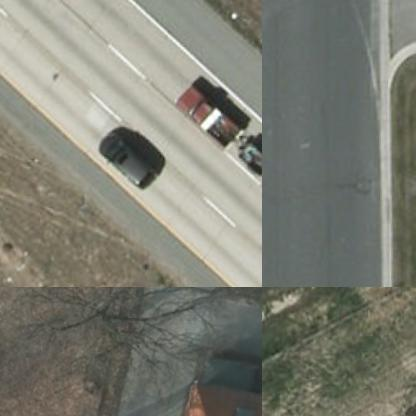car: (94, 130, 157, 186)
pickup: (170, 81, 243, 145)
